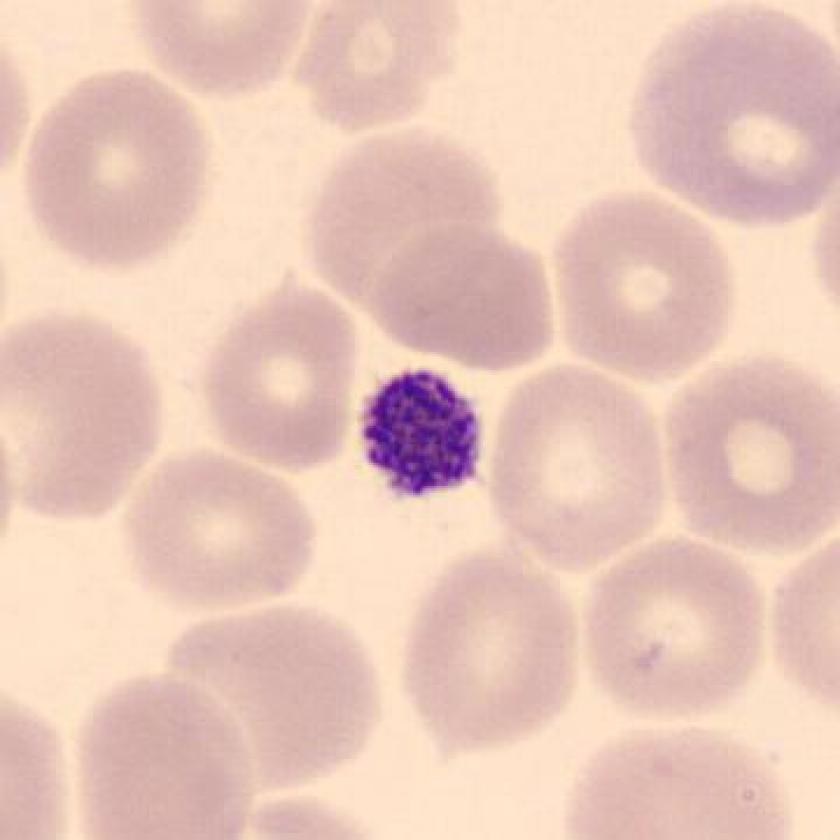platelets: (349, 350, 503, 515)
